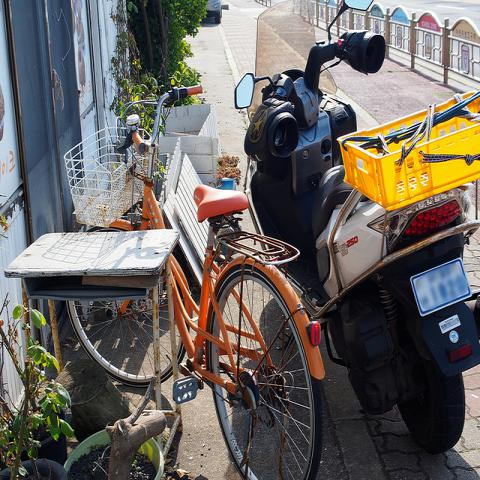car: (200, 0, 222, 24)
motorcycle: (232, 1, 479, 453)
